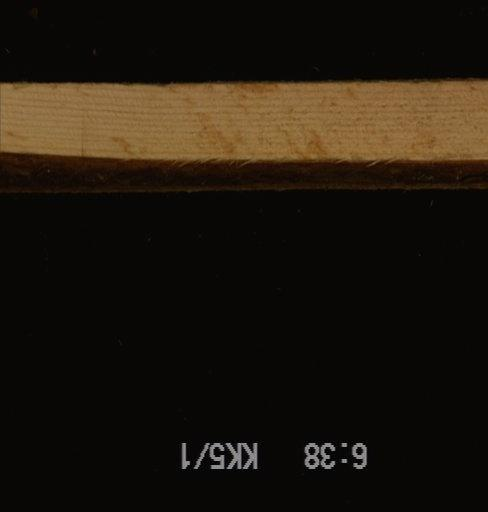wave: (0, 150, 486, 193)
